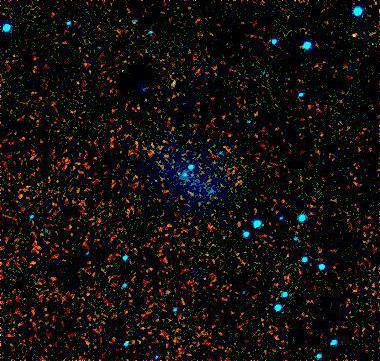star: (342, 25, 372, 55)
